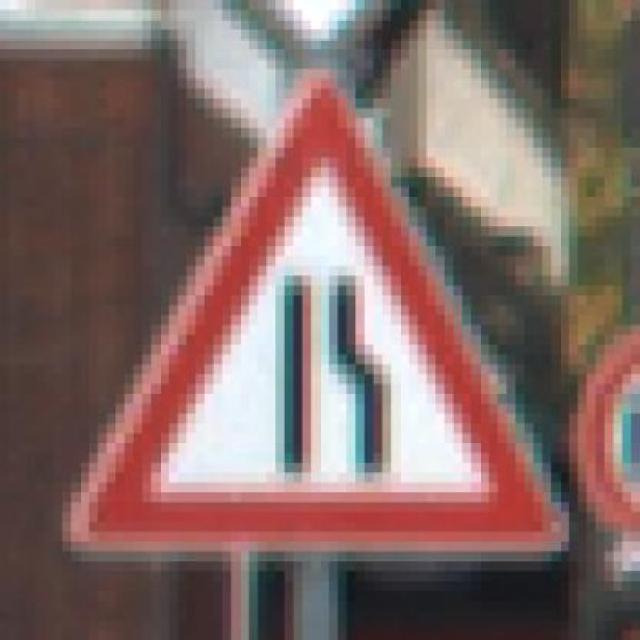-Road narrows on right: (53, 59, 587, 572)
